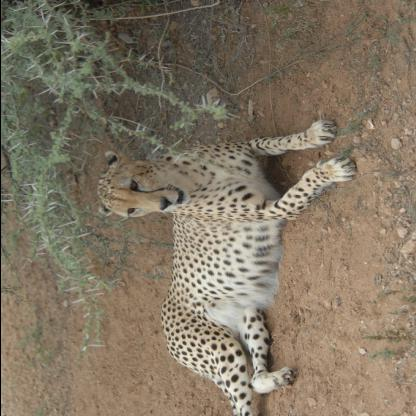leopard: (90, 145, 202, 223)
